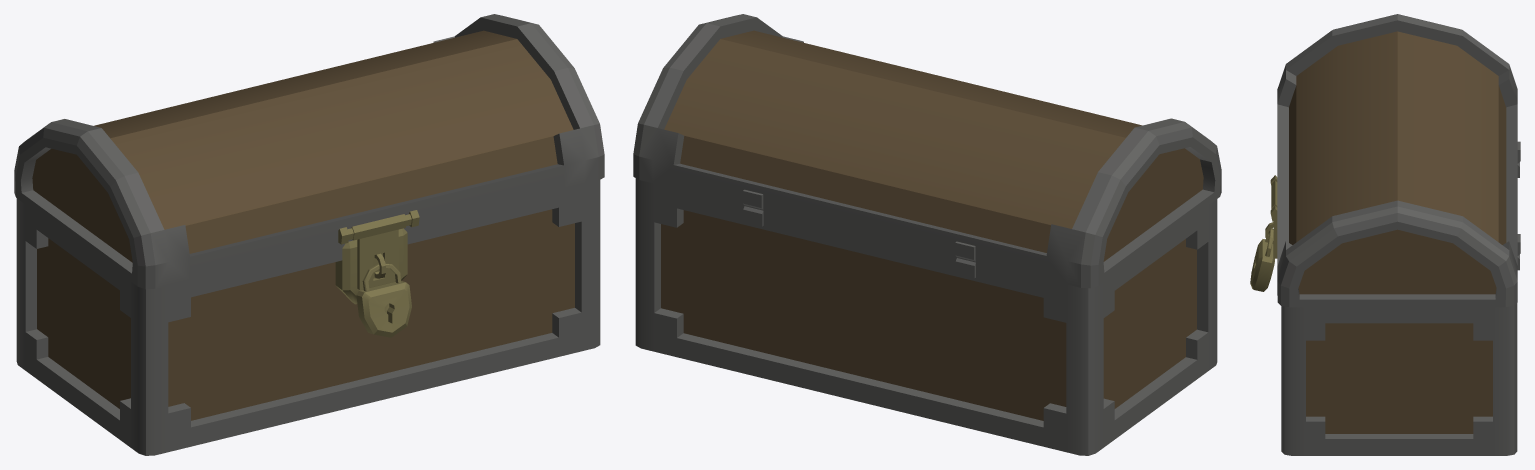
File: SM_ChestClosed.fbx
The picture shows the model from 3 angles, left to right: view 1: azimuth 30°, elevation 25°; view 2: azimuth 150°, elevation 25°; view 3: azimuth 270°, elevation 25°; orthographic projection. The views are drawn at different scales.
Visible parts, largest first — view 1: ChestTop, ChestBottom, LockClosed; view 2: ChestBottom, ChestTop; view 3: ChestTop, ChestBottom, LockClosed.
Boxes of the visible parts, x1,y1,x2,y2 form: ChestTop: (14,14,604,289); ChestBottom: (16,180,600,455); LockClosed: (356,263,411,337); ChestBottom: (635,178,1217,455); ChestTop: (633,14,1221,288); ChestTop: (1270,14,1520,307); ChestBottom: (1265,162,1519,455); LockClosed: (1250,228,1274,291).
Bounding box in the file's own units: 20.21 × 11.46 × 11.48.
